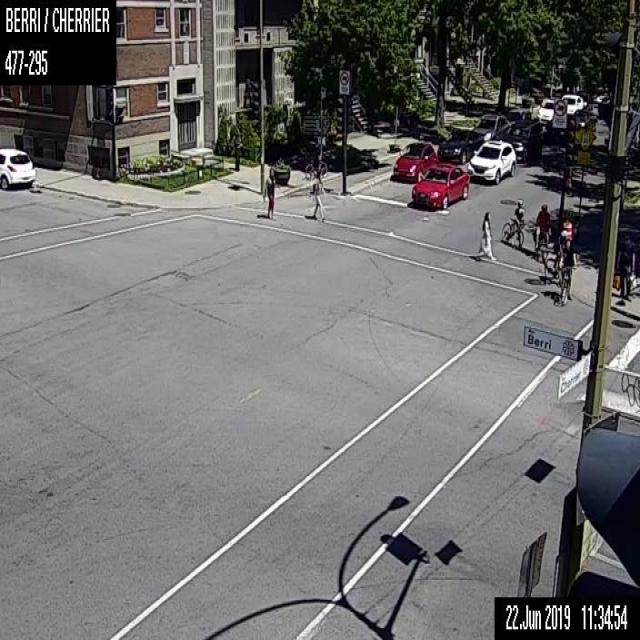construction: (562, 219, 572, 237)
cyclist: (544, 228, 566, 285), (558, 240, 576, 304), (532, 202, 551, 261), (501, 198, 524, 244)
pedestrian: (611, 234, 634, 302), (478, 211, 496, 260), (311, 172, 324, 222), (262, 166, 274, 218)
vehicle: (410, 164, 469, 209), (468, 138, 515, 183), (392, 141, 437, 181), (506, 119, 540, 164), (0, 148, 35, 188), (438, 130, 479, 163), (472, 112, 511, 140), (568, 108, 596, 128), (560, 93, 583, 115), (537, 98, 554, 125)
